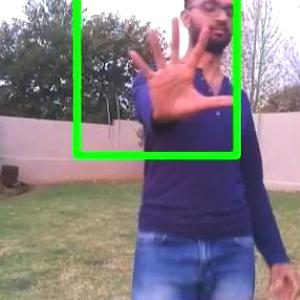follow_hand: (122, 7, 241, 129)
